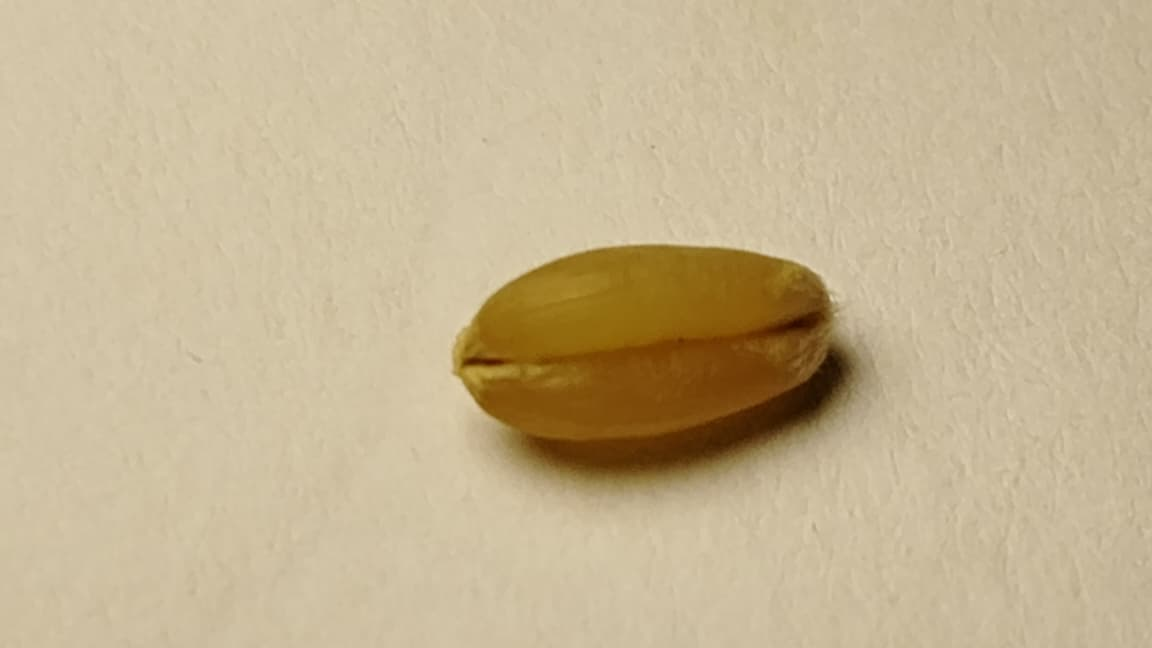healthy: (454, 247, 831, 445)
